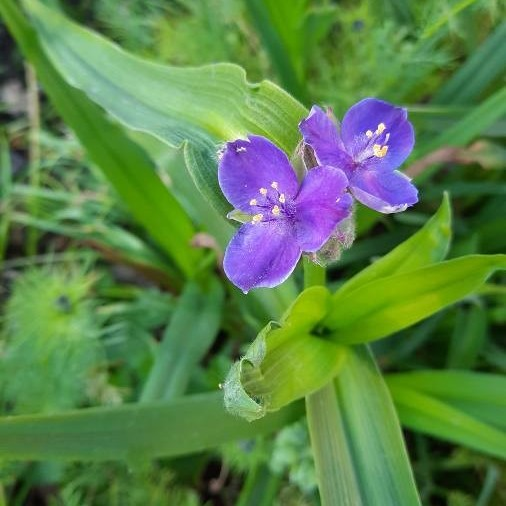obstacle: (48, 51, 424, 428)
